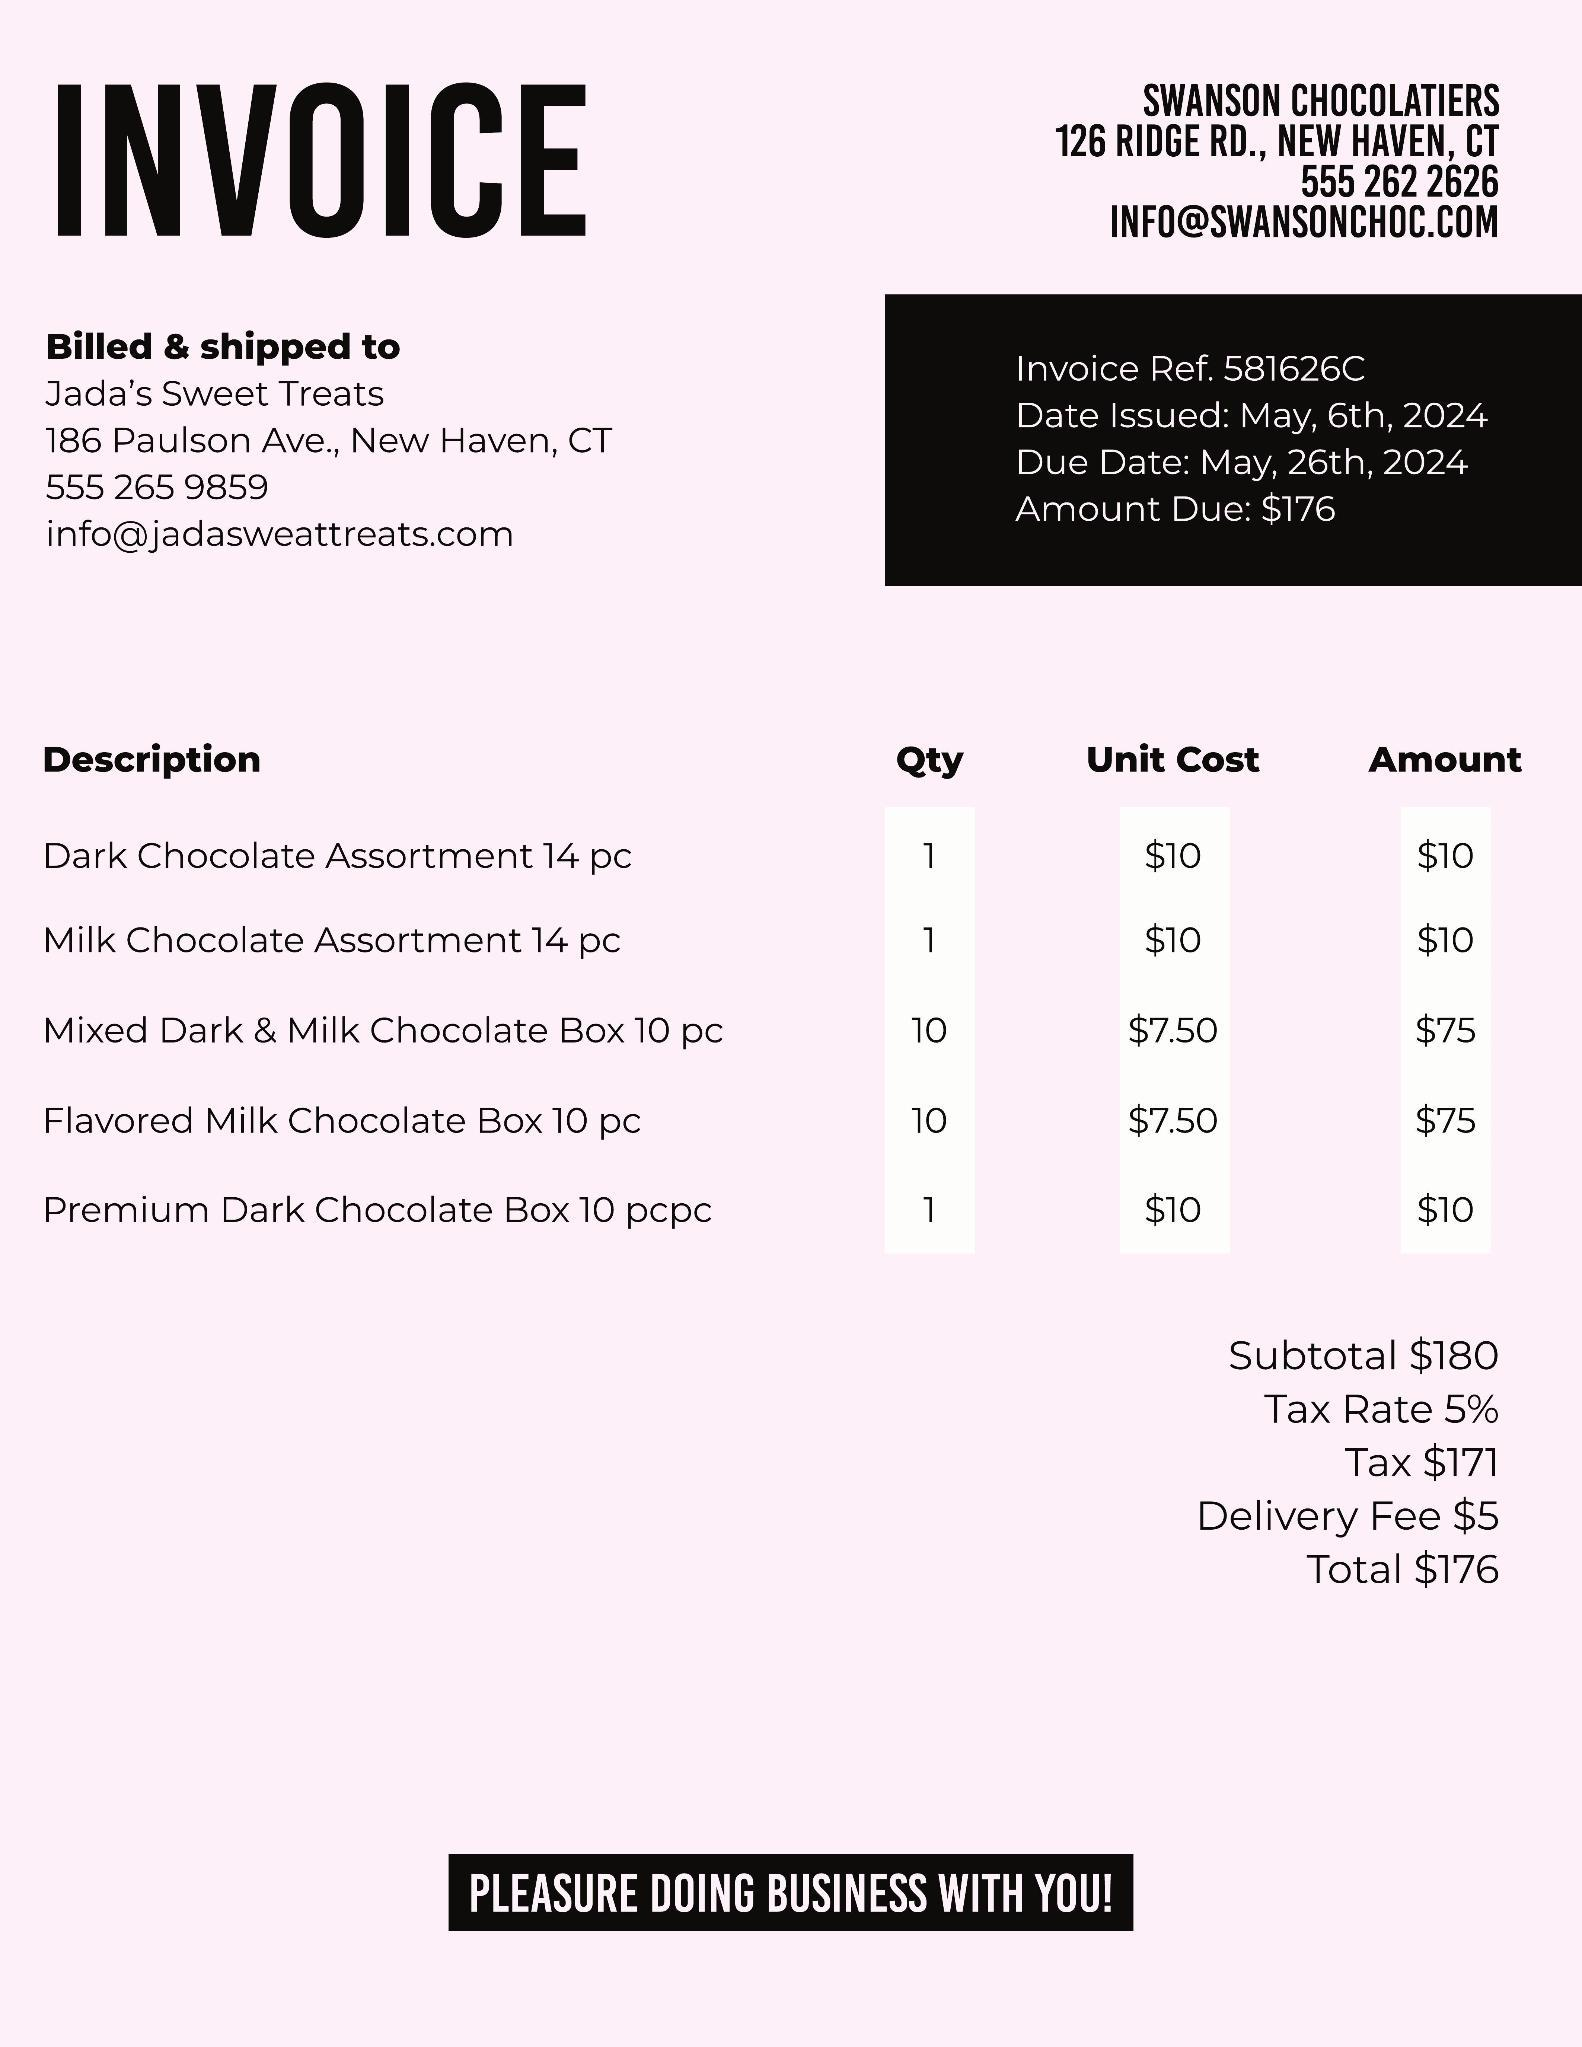ROI: (20, 738, 1529, 1249), (891, 287, 1582, 587), (35, 322, 626, 557), (47, 71, 617, 249), (1205, 1334, 1529, 1608), (1050, 61, 1507, 243), (449, 1854, 1133, 1939)
